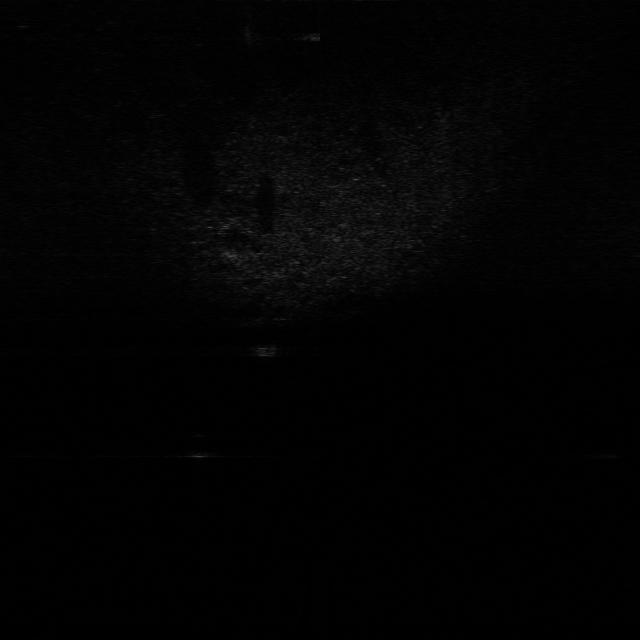ball: (181, 425, 218, 461)
cube: (251, 340, 278, 360)
